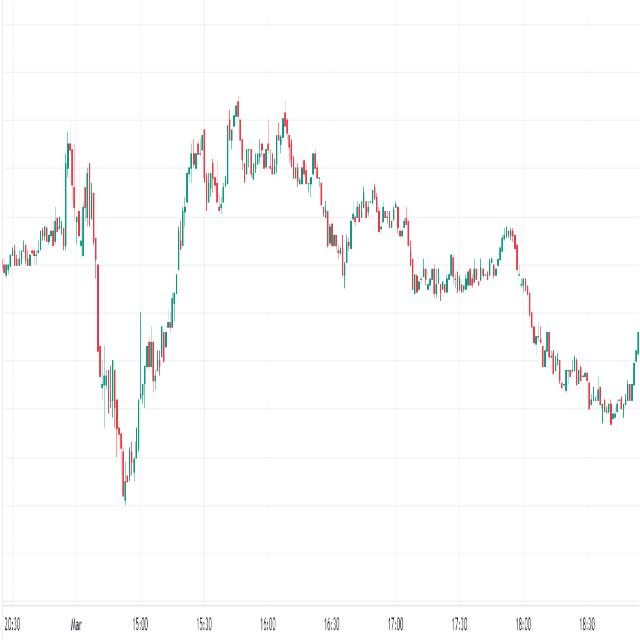Inverse-Head-Shoulders: (87, 144, 189, 526)
